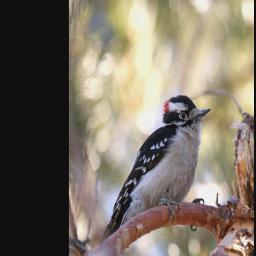Woodpecker: (102, 96, 211, 246)
